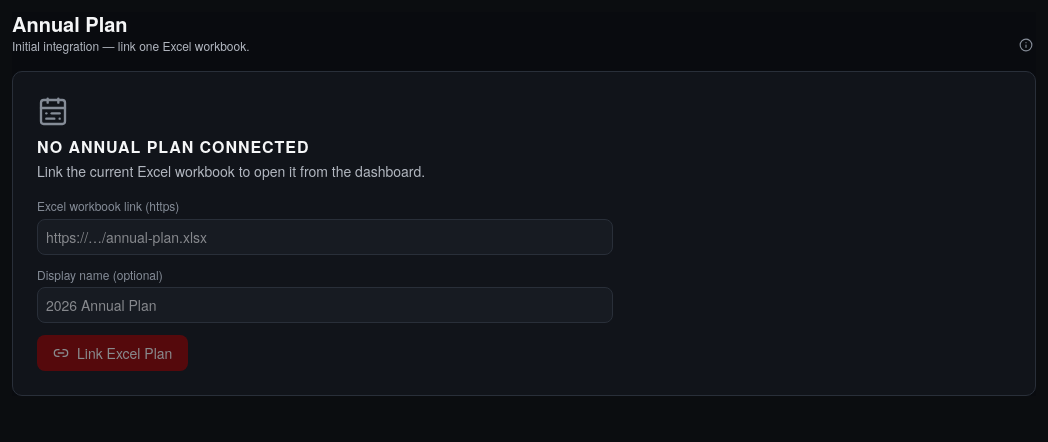
it: rejects an invalid (non-http) URL
Type "file:///etc/passwd" into the field labelled "Excel workbook link (https)". click: (325, 237)
box: [37,219,613,255]
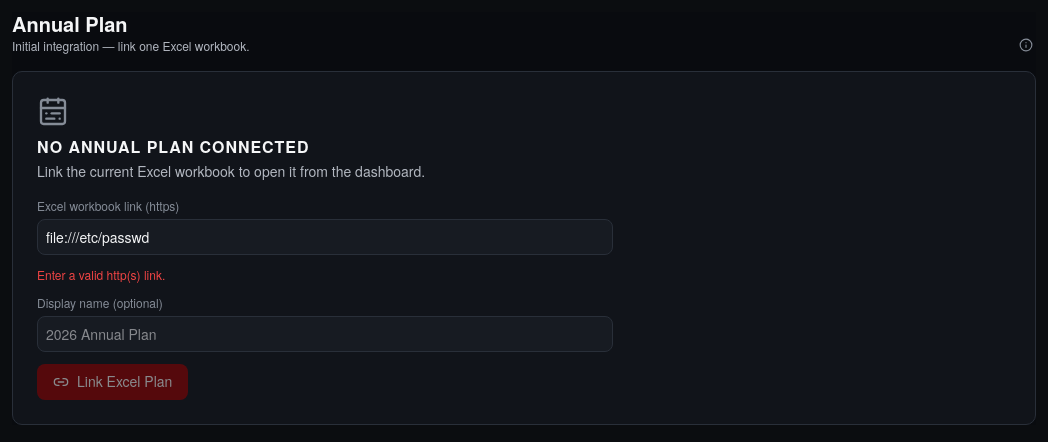
expect the button "Link Excel Plan" is disabled: met, box [37,364,188,400]
expect the text "Enter a valid http(s) link." is shown: met, box [37,266,165,283]
